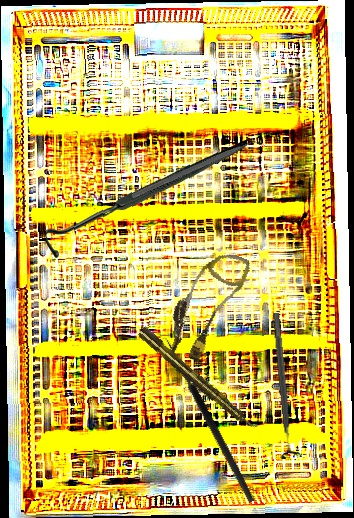Cannula: (160, 241, 253, 368)
Chopper: (130, 98, 267, 244)
Fixation Ring: (264, 311, 304, 460)
Handpiece: (136, 325, 260, 435)
Hook Surgical: (44, 133, 248, 265), (153, 334, 257, 508)
